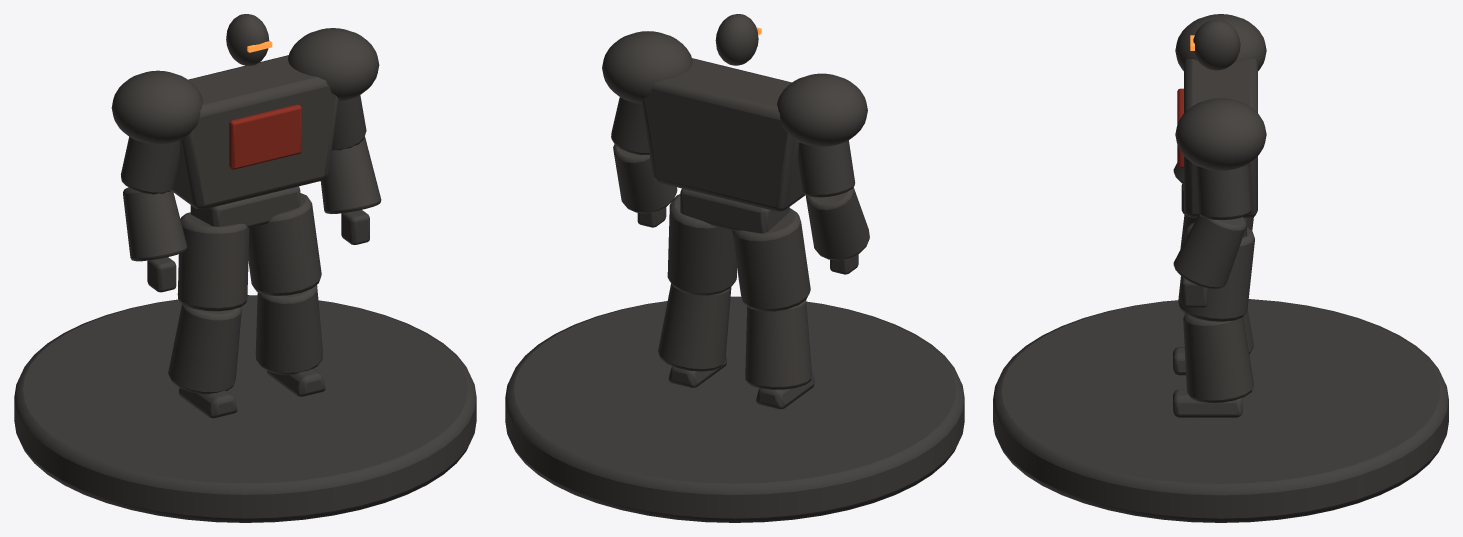
File: foundries_frame_striker.glb
The picture shows the model from 3 angles, left to right: view 1: azimuth 30°, elevation 25°; view 2: azimuth 150°, elevation 25°; view 3: azimuth 270°, elevation 25°; orthographic projection.
Visible parts, largest first — view 1: standin_base.005, standin_torso.005, standin_thigh_R.005, standin_thigh_L.005, standin_shin_R.005, standin_pauldron_R.005, standin_shin_L.005, standin_pauldron_L.005, standin_forearm_R.005, tp.005, standin_forearm_L.005, standin_arm_R.005 (+7 smaller); view 2: standin_base.005, standin_torso.005, standin_thigh_R.005, standin_pauldron_R.005, standin_shin_R.005, standin_shin_L.005, standin_thigh_L.005, standin_pauldron_L.005, standin_forearm_R.005, standin_arm_R.005, standin_pelvis.005, standin_forearm_L.005 (+4 smaller); view 3: standin_base.005, standin_shin_L.005, standin_pauldron_L.005, standin_torso.005, standin_forearm_L.005, standin_thigh_L.005, standin_arm_L.005, standin_pauldron_R.005, standin_helm.005, standin_foot_L.005, standin_hand_L.005.
Part boxes in pixels (x1,y1,x2,y2): standin_base.005: (14, 295, 476, 522); standin_torso.005: (172, 55, 339, 209); standin_thigh_R.005: (177, 212, 249, 311); standin_thigh_L.005: (248, 193, 321, 295); standin_shin_R.005: (168, 304, 241, 394); standin_pauldron_R.005: (111, 70, 202, 144); standin_shin_L.005: (255, 285, 322, 374); standin_pauldron_L.005: (288, 28, 379, 101); standin_forearm_R.005: (123, 187, 187, 261); tp.005: (229, 104, 301, 169); standin_forearm_L.005: (320, 137, 381, 213); standin_arm_R.005: (121, 137, 180, 194); standin_base.005: (505, 296, 964, 522); standin_torso.005: (641, 58, 804, 211); standin_thigh_R.005: (731, 208, 810, 311); standin_pauldron_R.005: (777, 73, 867, 146); standin_shin_R.005: (745, 300, 811, 389); standin_shin_L.005: (658, 283, 731, 371); standin_thigh_L.005: (667, 194, 736, 295); standin_pauldron_L.005: (602, 31, 692, 103); standin_forearm_R.005: (805, 187, 869, 260); standin_arm_R.005: (798, 140, 855, 197); standin_pelvis.005: (680, 188, 789, 233); standin_forearm_L.005: (613, 144, 677, 213); standin_base.005: (993, 299, 1448, 522); standin_shin_L.005: (1183, 313, 1253, 402); standin_pauldron_L.005: (1175, 98, 1266, 170); standin_torso.005: (1184, 59, 1257, 217); standin_forearm_L.005: (1173, 214, 1246, 288); standin_thigh_L.005: (1178, 222, 1254, 321); standin_arm_L.005: (1195, 163, 1251, 219); standin_pauldron_R.005: (1175, 14, 1266, 70); standin_helm.005: (1193, 20, 1240, 70); standin_foot_L.005: (1173, 389, 1242, 417); standin_hand_L.005: (1181, 277, 1207, 307).
Bounding box in the file's own units: 32 × 31.66 × 32.
